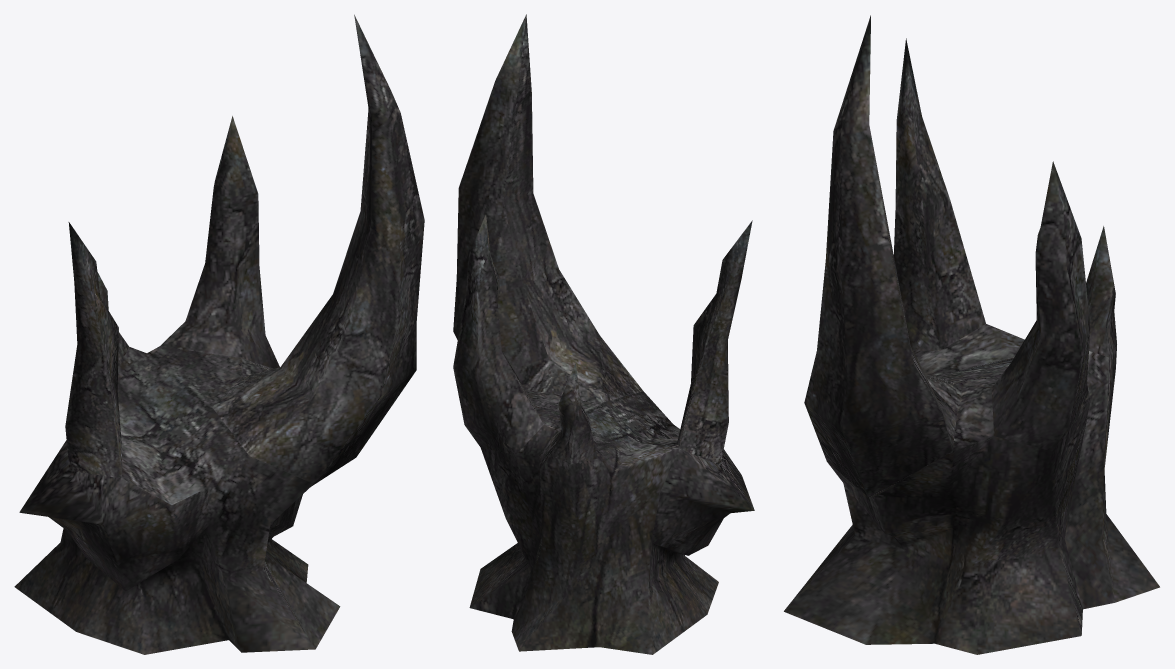
The model's file is spearrock_001.glb.
3 views of the same model, side by side, from view 1: azimuth 30°, elevation 25°; view 2: azimuth 150°, elevation 25°; view 3: azimuth 270°, elevation 25° (orthographic). The views are drawn at different scales.
Parts seen in each view (by area): view 1: spear_001; view 2: spear_001; view 3: spear_001.
Boxes of the visible parts, x1=… form: spear_001: x1=14, y1=14, x2=424, y2=654; spear_001: x1=453, y1=14, x2=754, y2=654; spear_001: x1=784, y1=15, x2=1159, y2=654.
Size of the model in its own units: 7.33 by 11.39 by 6.09.
1 material, 1 textured.
